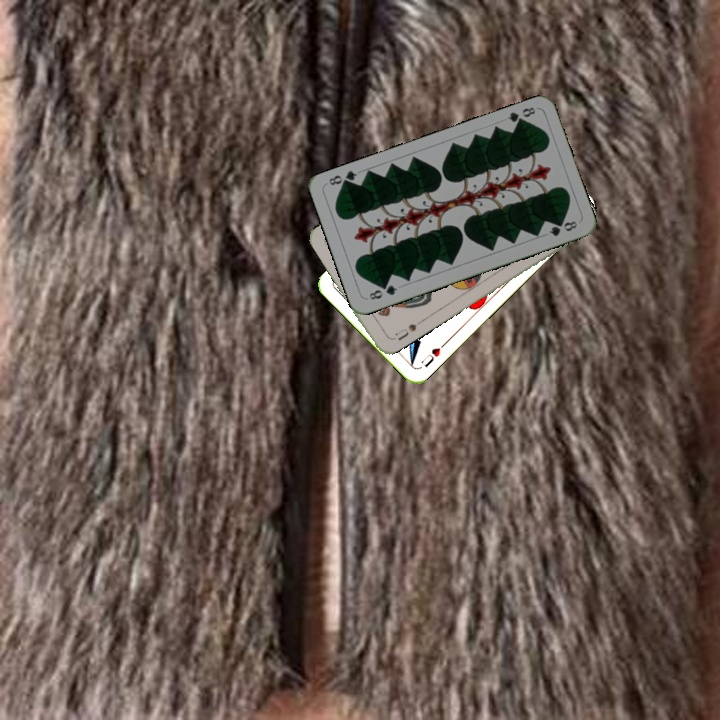G8: (503, 103, 538, 128), (365, 281, 400, 302)
HU: (417, 339, 448, 370)
SU: (391, 317, 424, 343)
